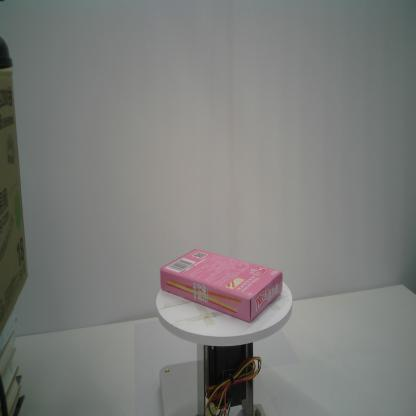Dessert: (160, 249, 284, 324)
